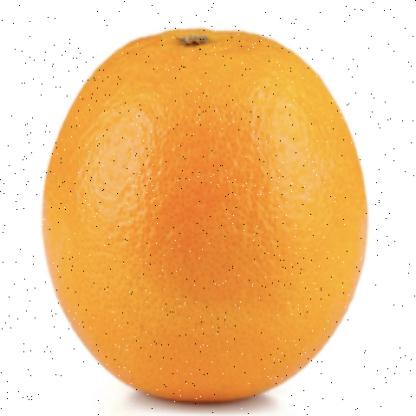orange: (35, 21, 374, 407)
